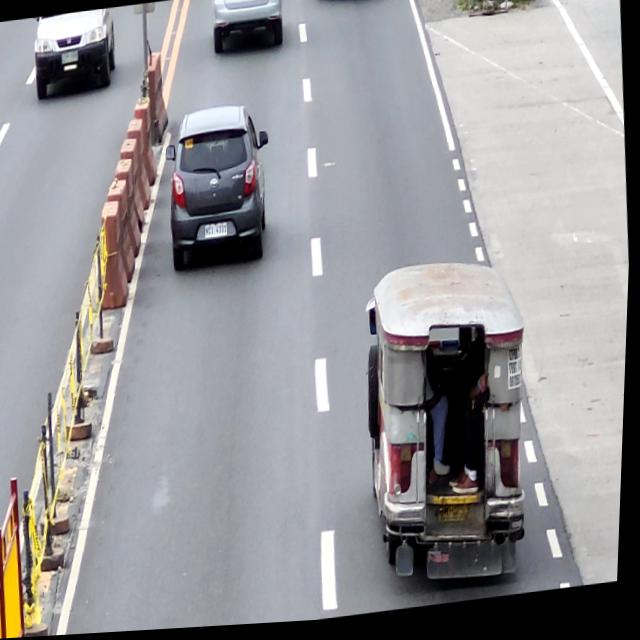Car: (159, 102, 279, 277), (210, 0, 287, 58)
Jeep: (354, 256, 545, 596)
License-Plate: (441, 507, 477, 531), (205, 224, 230, 242)
